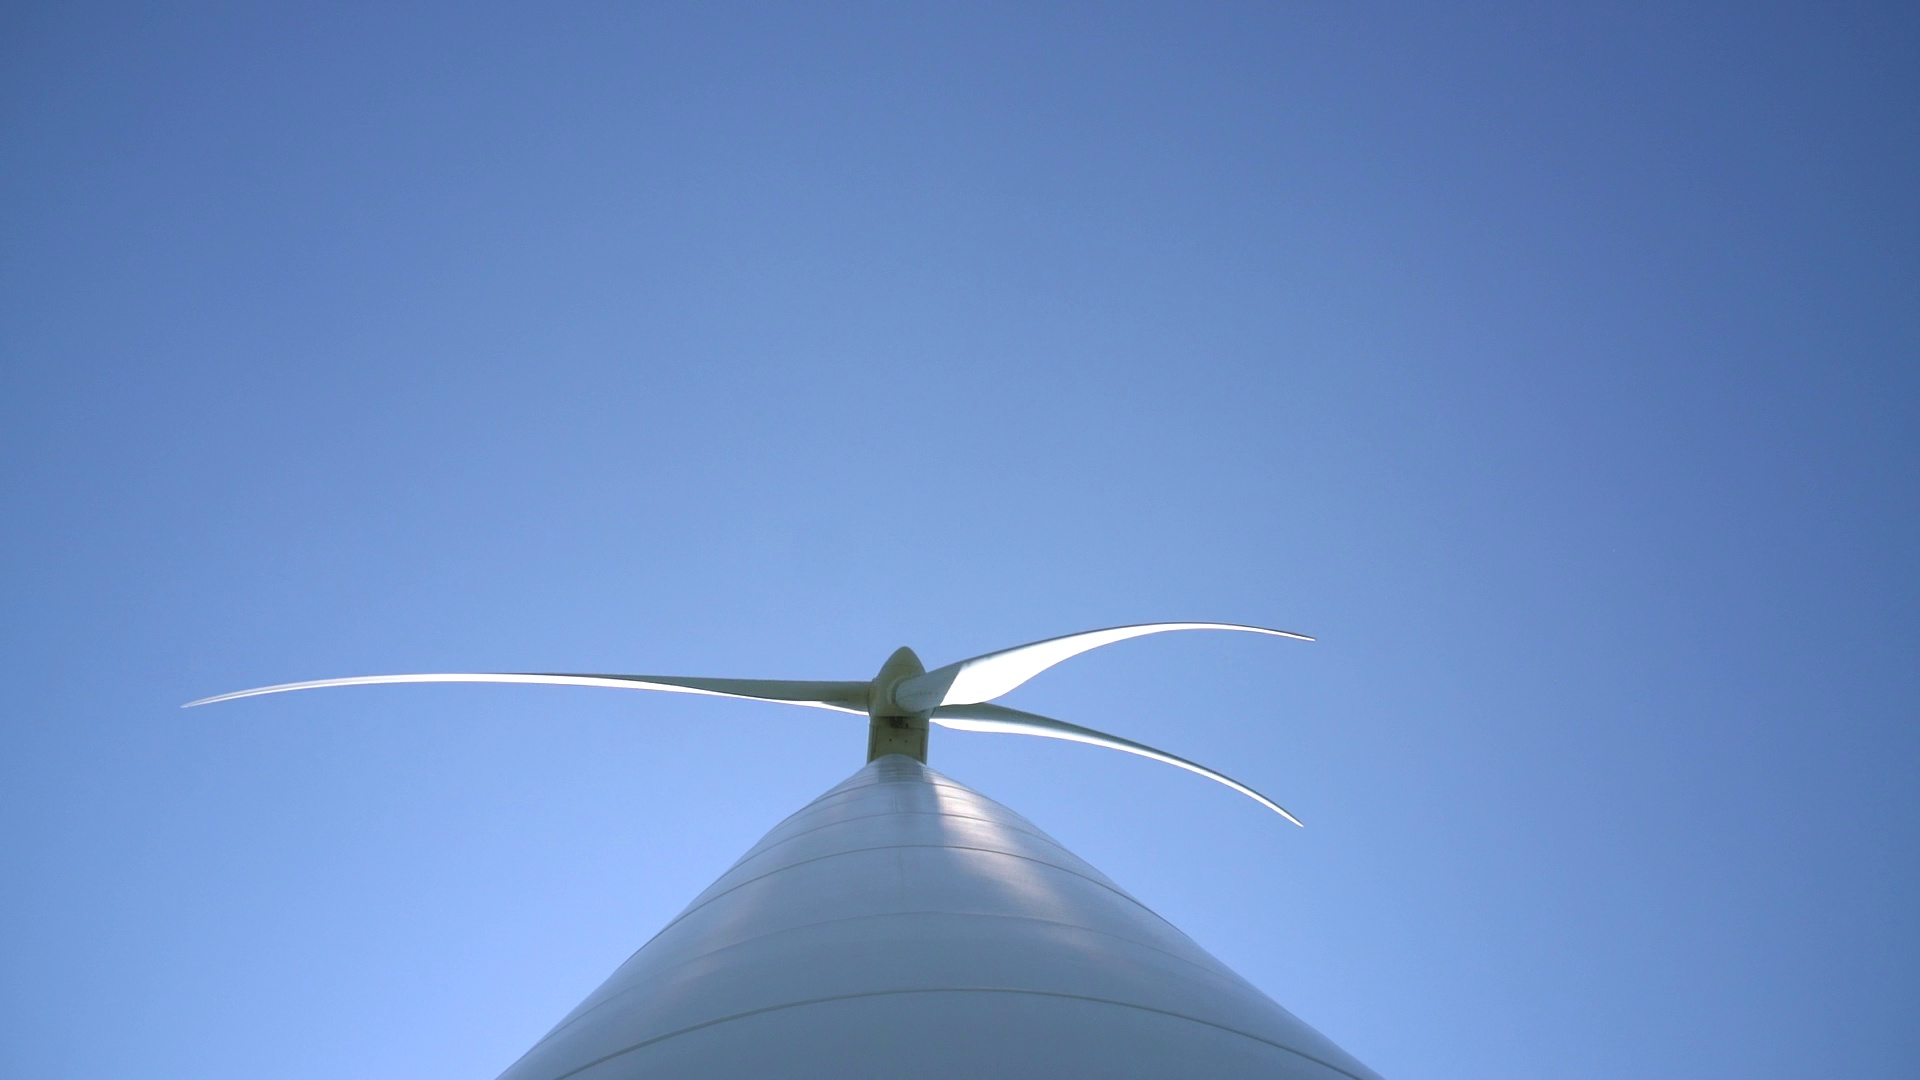turbine: (129, 638, 880, 744), (936, 686, 1346, 844), (906, 600, 1361, 704)
